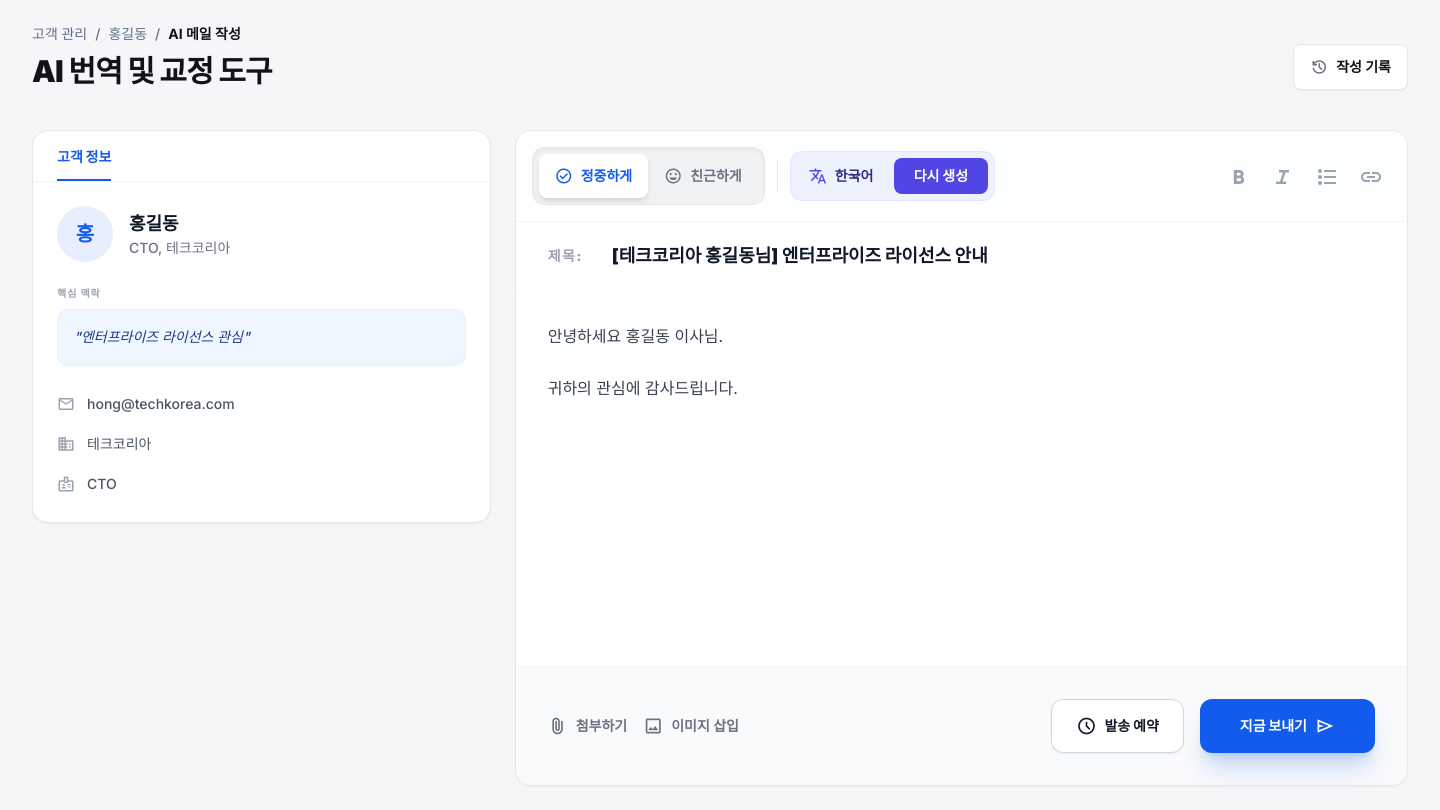
Test: EmailComposer › 발송 예약 모달 › 발송 예약 버튼 클릭 시 모달이 열린다
Click the button "발송 예약" at (1118,726), box [1052, 699, 1184, 753]
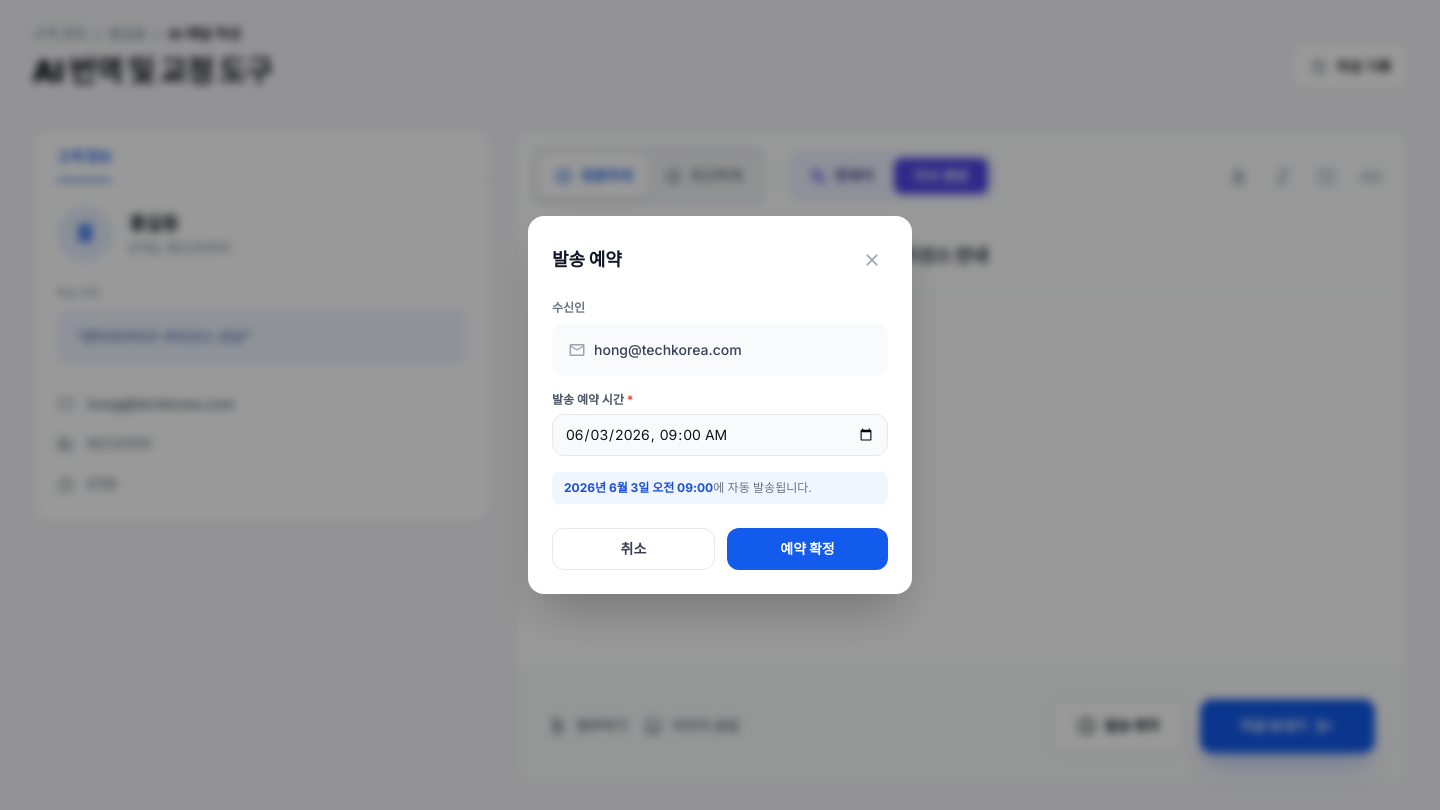
Expected: the text "hong@techkorea.com" below "엔터프라이즈 라이선스 관심" is shown, [87, 395, 235, 412]
Now the heading "발송 예약" is shown, box [552, 246, 622, 274]
